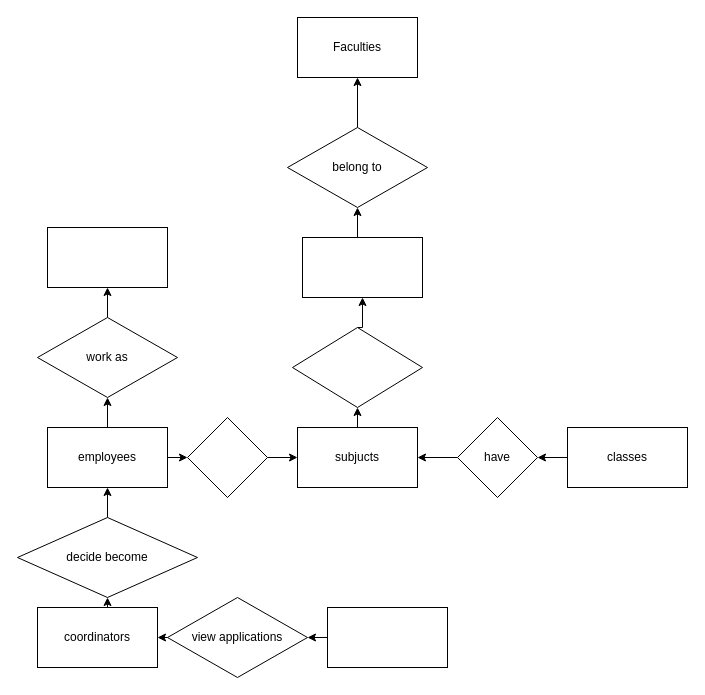
This 705x695 diagram has some shape labels left out. Here are the shapes that lost their labels. From the top down, the centre of each, then its label:
point 107,257: non-timetabled roles
point 362,267: departments
point 357,367: open by
point 227,457: teach
point 387,637: applicants
